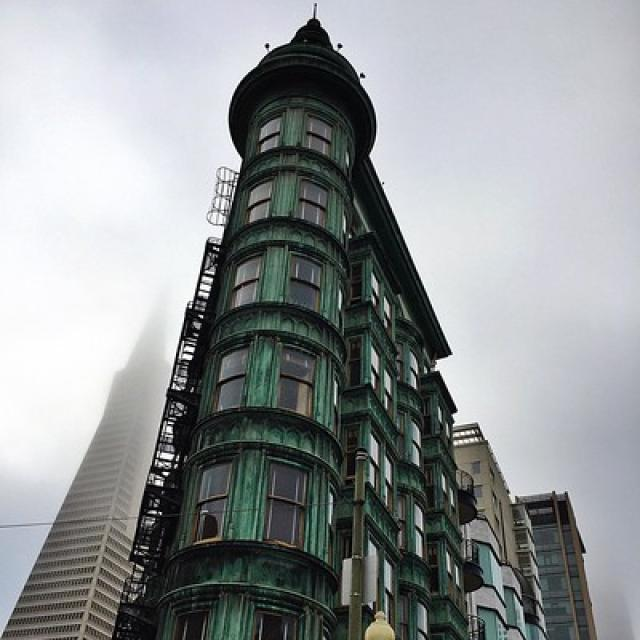building: (107, 22, 459, 640)
